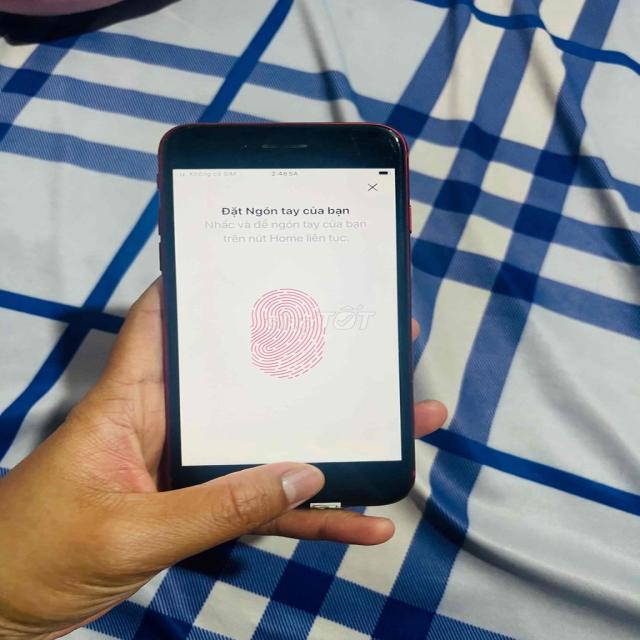gen_7_8: (142, 113, 426, 516)
scratch: (372, 130, 402, 156)
